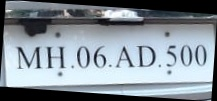character: (15, 45, 42, 69), (45, 45, 66, 68), (136, 44, 156, 68), (114, 45, 134, 68), (92, 44, 107, 69), (76, 45, 90, 69), (194, 43, 207, 66), (165, 44, 177, 67), (180, 44, 192, 66)
